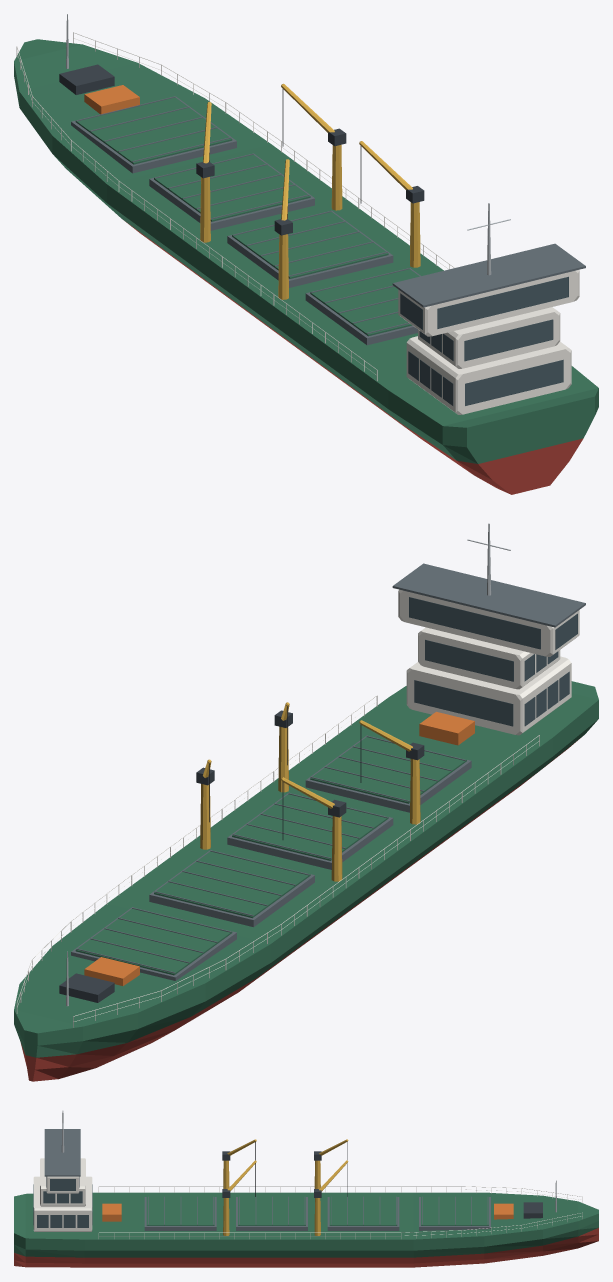
The model's file is BOAT_05.obj.
3 views of the same model, one above another, from view 1: azimuth 30°, elevation 25°; view 2: azimuth 150°, elevation 25°; view 3: azimuth 270°, elevation 25° (orthographic). The views are drawn at different scales.
Parts seen in each view (by area): view 1: hull_upper, hatch_covers, windows, hatch_coamings, cranes, bridge_roof, superstructure, hull_lower, deck2, bridge, railings, windlass (+1 smaller); view 2: hull_upper, hatch_covers, windows, hatch_coamings, bridge_roof, superstructure, cranes, hull_lower, deck2, bridge, railings, mooring_winches (+1 smaller); view 3: hull_upper, hatch_covers, hull_lower, hatch_coamings, railings, cranes, bridge_roof, windows, superstructure, deck2, mooring_winches, bridge (+1 smaller).
Part boxes in pixels (x1=…): hull_upper: x1=14, y1=39, x2=598, y2=463; hatch_covers: x1=75, y1=96, x2=419, y2=336; windows: x1=400, y1=276, x2=568, y2=405; hatch_coamings: x1=71, y1=96, x2=420, y2=345; cranes: x1=196, y1=83, x2=424, y2=299; bridge_roof: x1=392, y1=243, x2=585, y2=307; superstructure: x1=406, y1=336, x2=571, y2=414; hull_lower: x1=125, y1=221, x2=583, y2=494; deck2: x1=418, y1=307, x2=560, y2=368; bridge: x1=398, y1=270, x2=579, y2=336; railings: x1=16, y1=32, x2=454, y2=380; windlass: x1=59, y1=64, x2=114, y2=94; hull_upper: x1=14, y1=681, x2=598, y2=1057; hatch_covers: x1=75, y1=735, x2=466, y2=975; windows: x1=409, y1=597, x2=577, y2=726; hatch_coamings: x1=71, y1=735, x2=471, y2=980; bridge_roof: x1=392, y1=563, x2=585, y2=627; superstructure: x1=406, y1=656, x2=571, y2=735; cranes: x1=196, y1=702, x2=424, y2=881; hull_lower: x1=21, y1=737, x2=581, y2=1081; deck2: x1=418, y1=627, x2=560, y2=689; bridge: x1=398, y1=589, x2=579, y2=656; railings: x1=16, y1=695, x2=539, y2=1027; mooring_winches: x1=84, y1=711, x2=474, y2=985; hull_upper: x1=14, y1=1192, x2=598, y2=1257; hatch_covers: x1=146, y1=1196, x2=488, y2=1225; hull_lower: x1=14, y1=1228, x2=598, y2=1267; hatch_coamings: x1=144, y1=1197, x2=490, y2=1230; railings: x1=98, y1=1186, x2=582, y2=1238; cranes: x1=222, y1=1139, x2=348, y2=1235; bridge_roof: x1=44, y1=1129, x2=80, y2=1176; windows: x1=33, y1=1177, x2=92, y2=1227; superstructure: x1=33, y1=1176, x2=92, y2=1231; deck2: x1=40, y1=1158, x2=85, y2=1206; mooring_winches: x1=102, y1=1203, x2=513, y2=1221; bridge: x1=46, y1=1176, x2=79, y2=1193.
Size of the model in its own units: 17 by 25.36 by 89.55.
